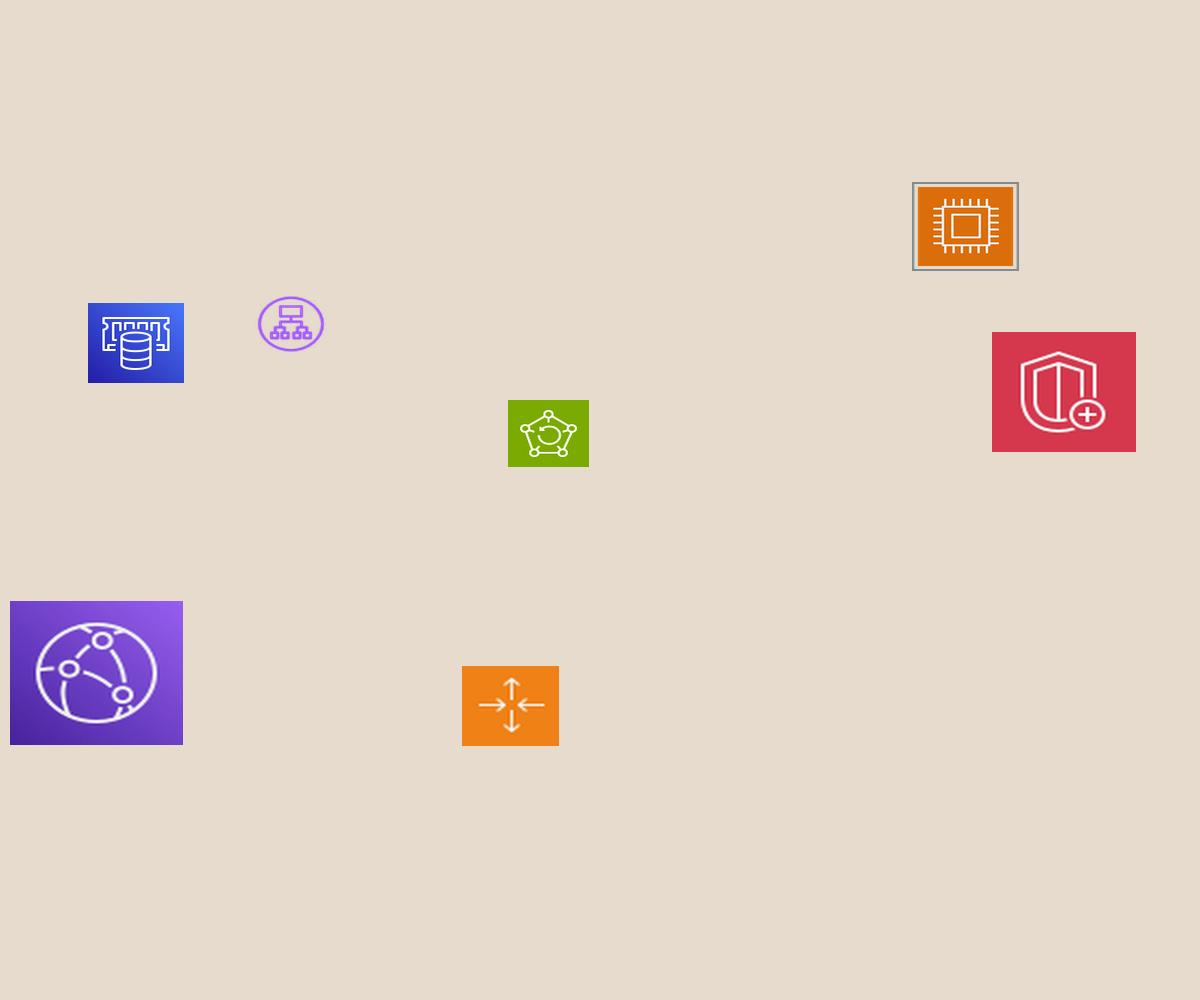AWS-Backup: (508, 400, 589, 467)
AWS-Category_Compute: (912, 182, 1019, 271)
AWS-CloudFront: (10, 601, 183, 745)
AWS-ElastiCache: (88, 303, 184, 383)
AWS-Res_Elastic-Load-Balancing_Application-Load-Balancer: (255, 294, 327, 354)
AWS-Scaling-group: (462, 666, 559, 746)
AWS-Shield: (992, 332, 1136, 452)
